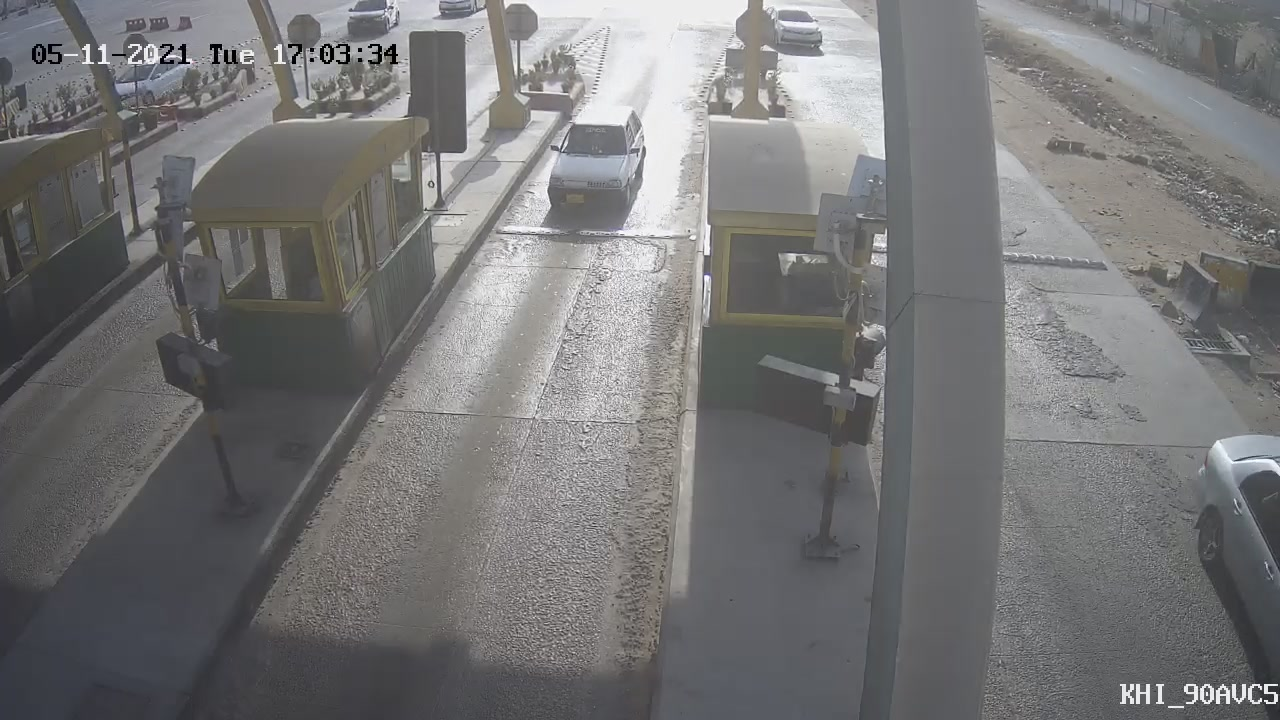F1: (526, 91, 669, 233)
